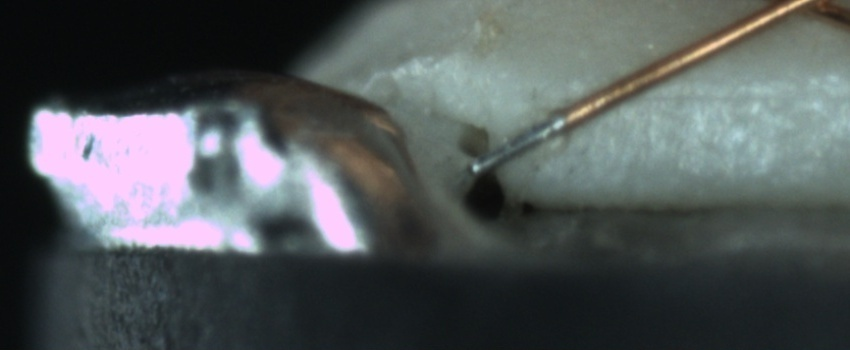CL: (746, 0, 844, 28)
DL: (627, 66, 849, 125)
TS: (468, 115, 569, 174)
TTCW: (471, 89, 610, 173)
